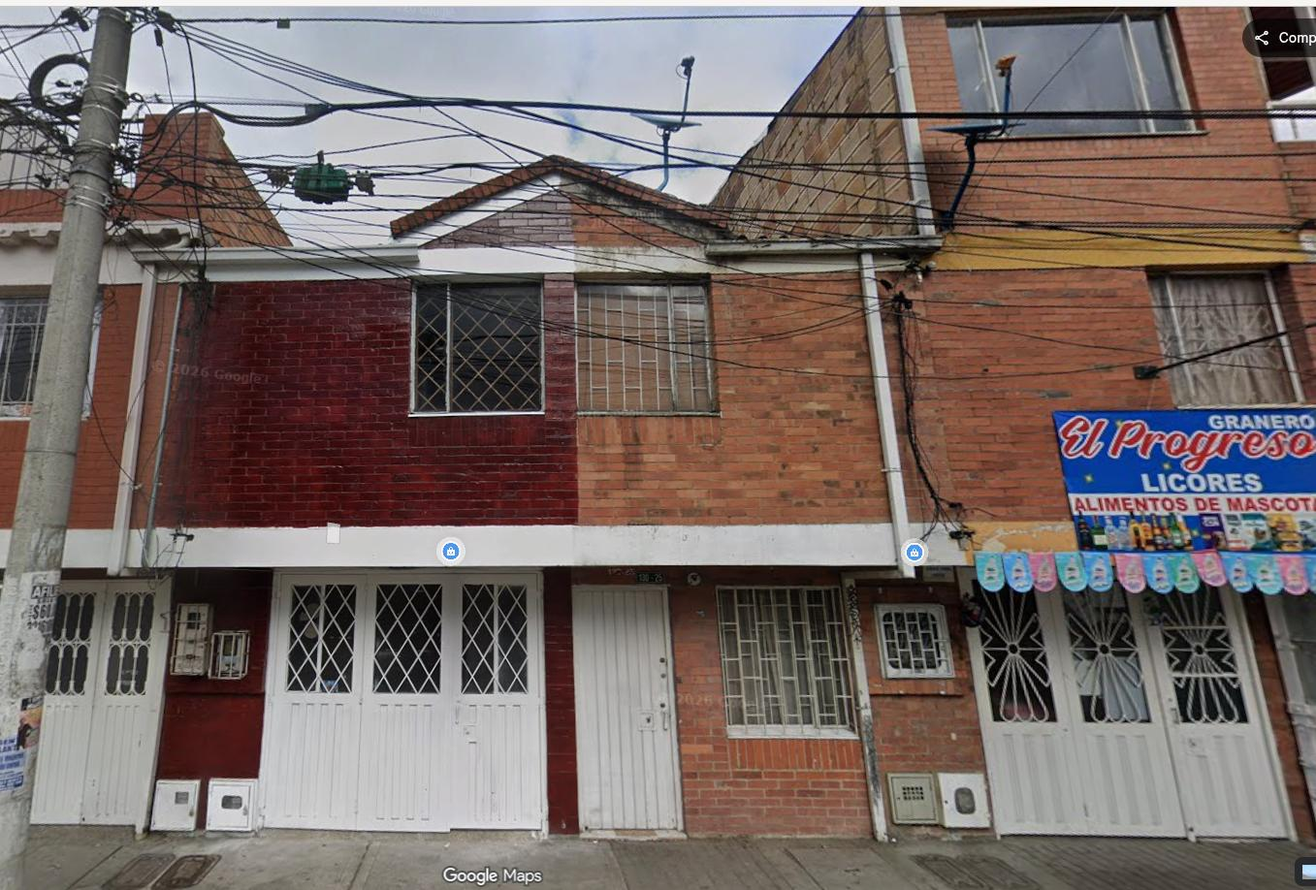casa: (721, 0, 1315, 839), (423, 159, 910, 834), (158, 159, 595, 831)
poste: (0, 7, 131, 736), (0, 747, 43, 889)
